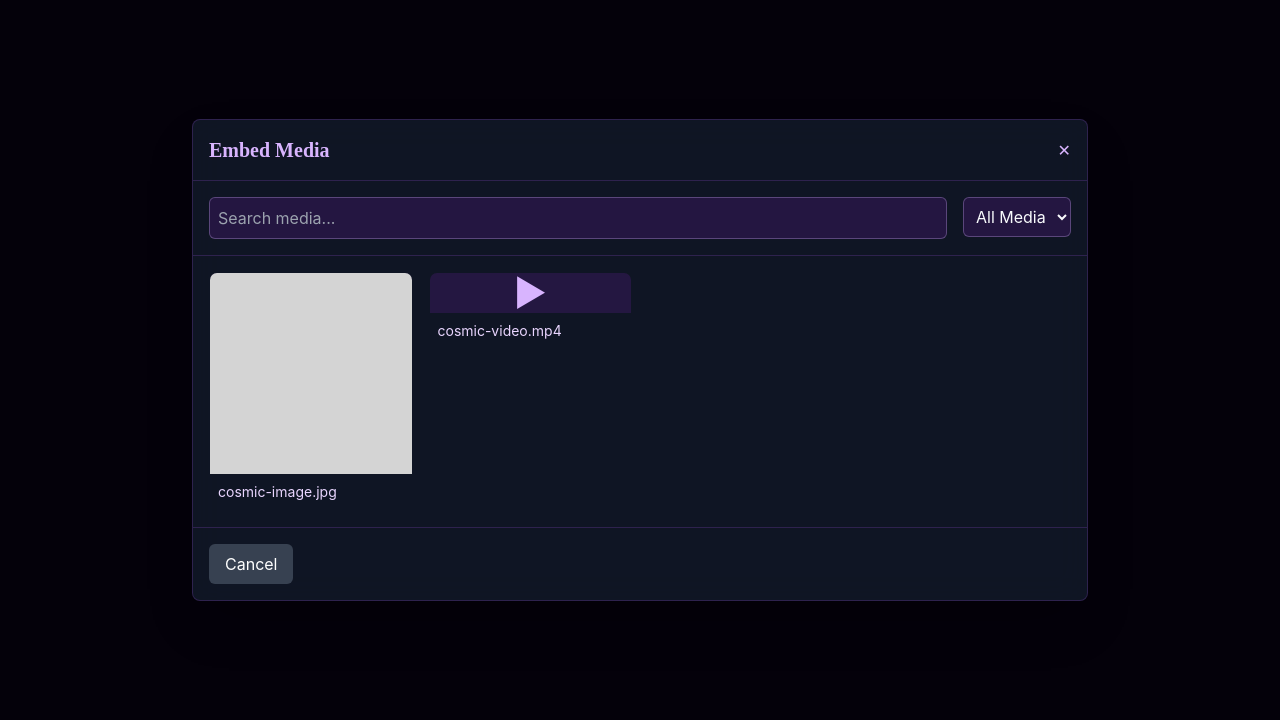
Test: MediaEmbedder Component › filters media files by type
Check: the text "cosmic-image.jpg" is shown, box [218,483,337,500]
# Select image type
Select "Images" in the dropdown: (1017, 217) [963,197,1071,237]
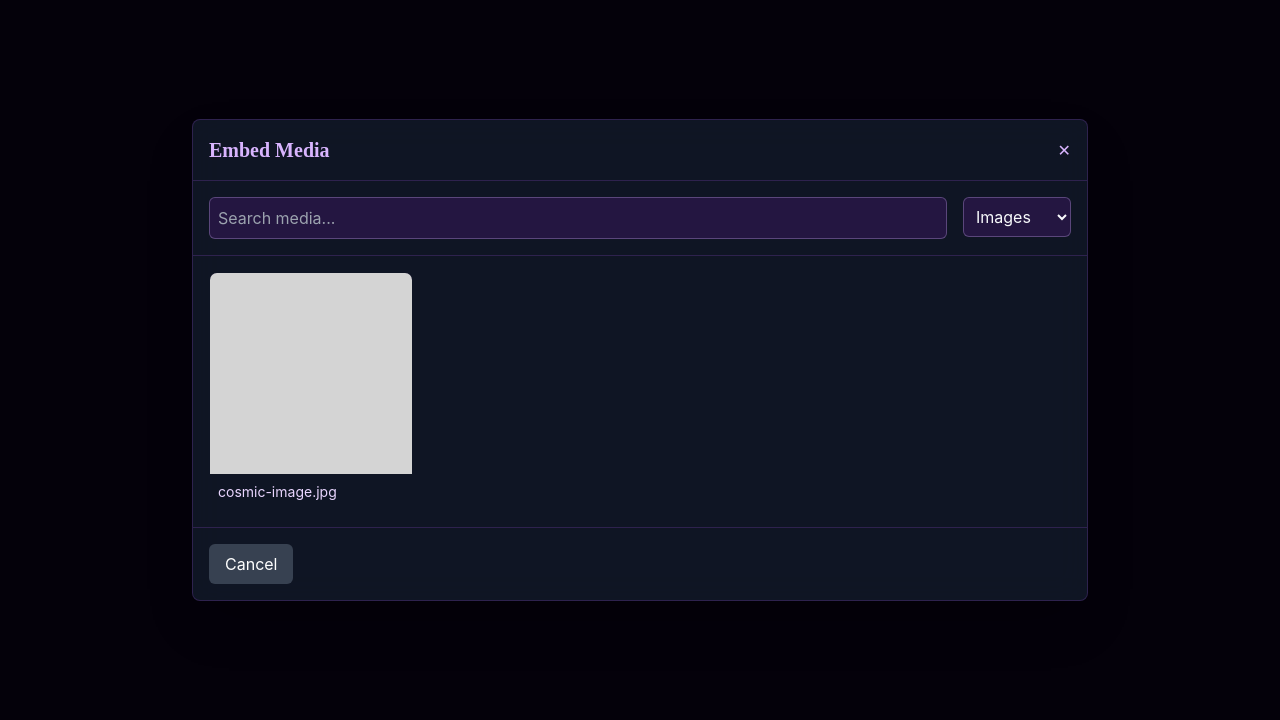
Check: the text "cosmic-image.jpg" is shown, box [218,483,337,500]
Check: the text "cosmic-video.mp4" is gone
# Select video type
Select "Videos" in the dropdown: (1017, 217) [963,197,1071,237]
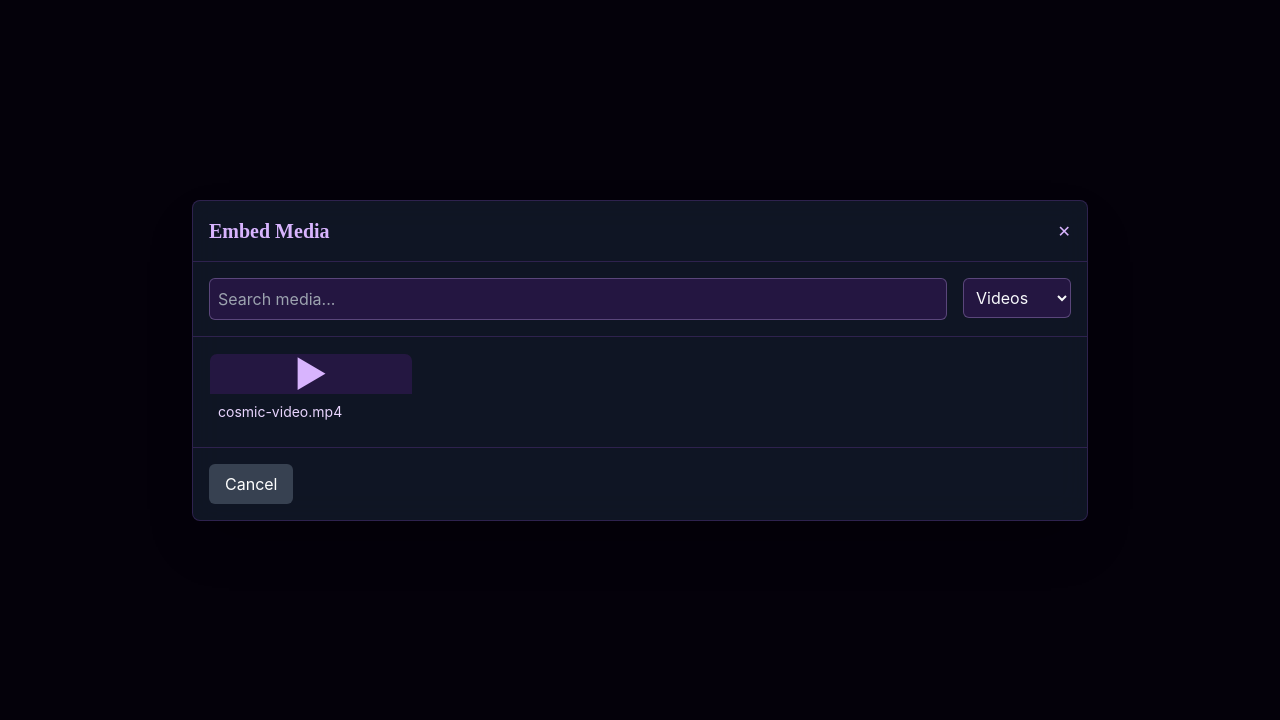
Check: the text "cosmic-image.jpg" is gone
Check: the text "cosmic-video.mp4" is shown, box [218,402,342,420]
